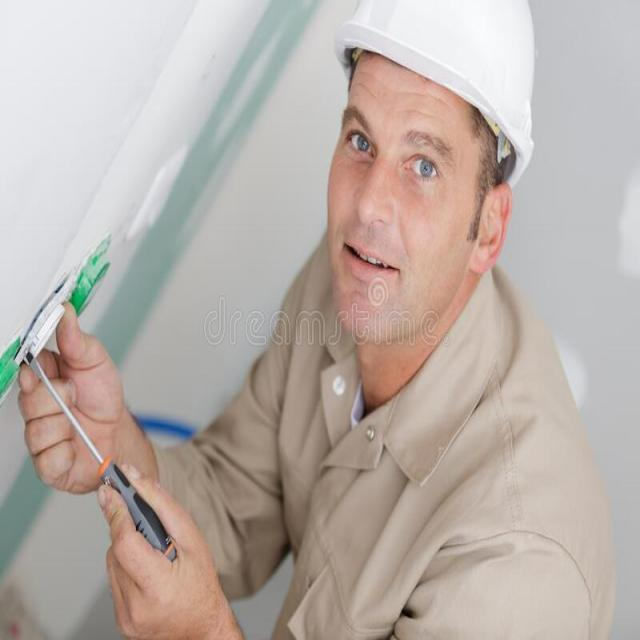screwdriver: (24, 343, 184, 574)
